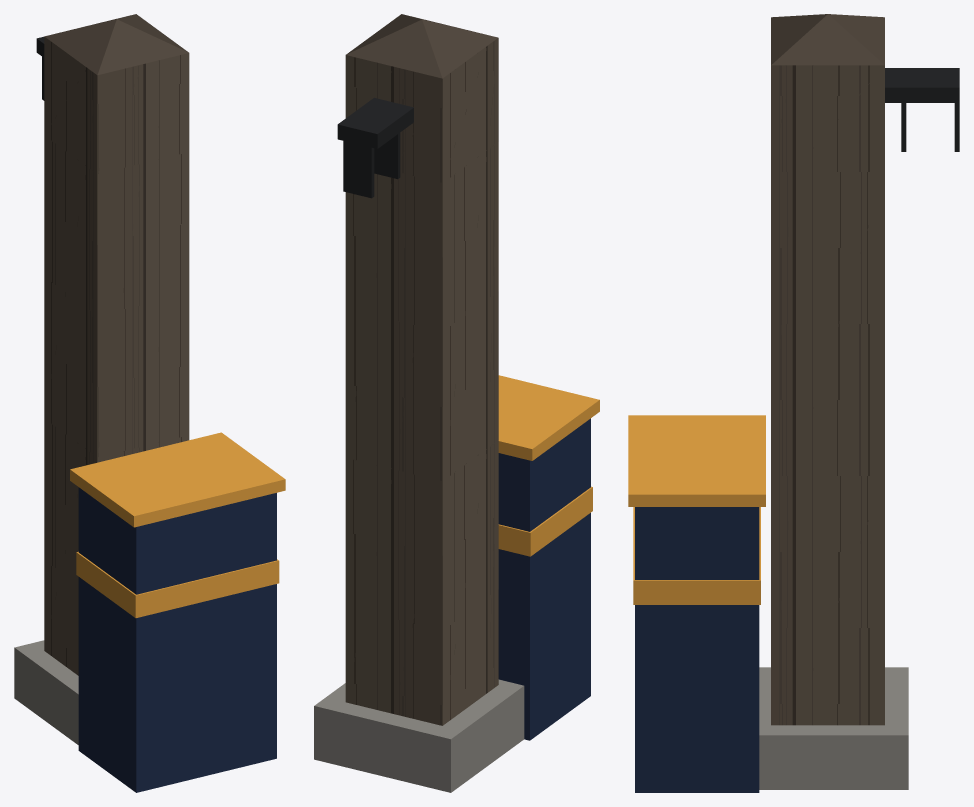
File: MinidoracatKnoxPass_slidemotor1_D.glb
3 renders of one model, left to right at view 1: azimuth 30°, elevation 25°; view 2: azimuth 150°, elevation 25°; view 3: azimuth 270°, elevation 25°, orthographic. The views are drawn at different scales.
Visible parts, largest first — view 1: MinidoracatKnoxPass_slidemotor1_D; view 2: MinidoracatKnoxPass_slidemotor1_D; view 3: MinidoracatKnoxPass_slidemotor1_D.
Part boxes in pixels (box(x1,y1,x2,y2)): MinidoracatKnoxPass_slidemotor1_D: box(14, 14, 285, 792); MinidoracatKnoxPass_slidemotor1_D: box(314, 14, 599, 792); MinidoracatKnoxPass_slidemotor1_D: box(628, 14, 959, 792).
Size of the model in its own units: 0.56 by 2.44 by 0.987.
1 material, 1 textured.
